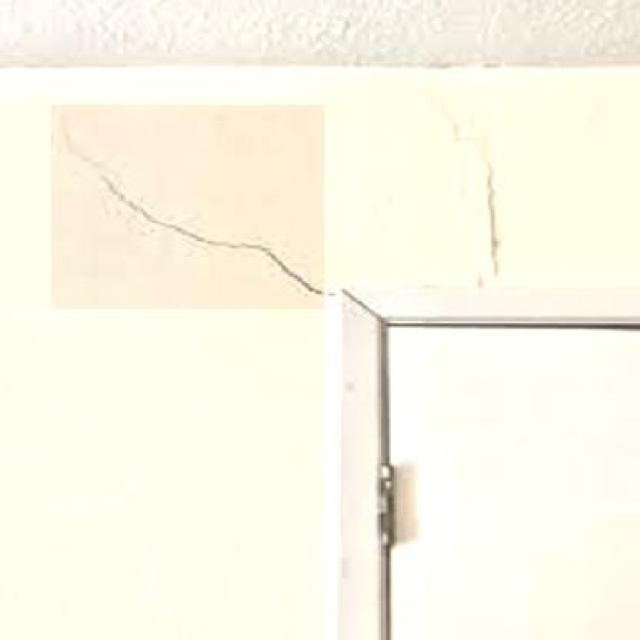Crack: (37, 89, 334, 308)
